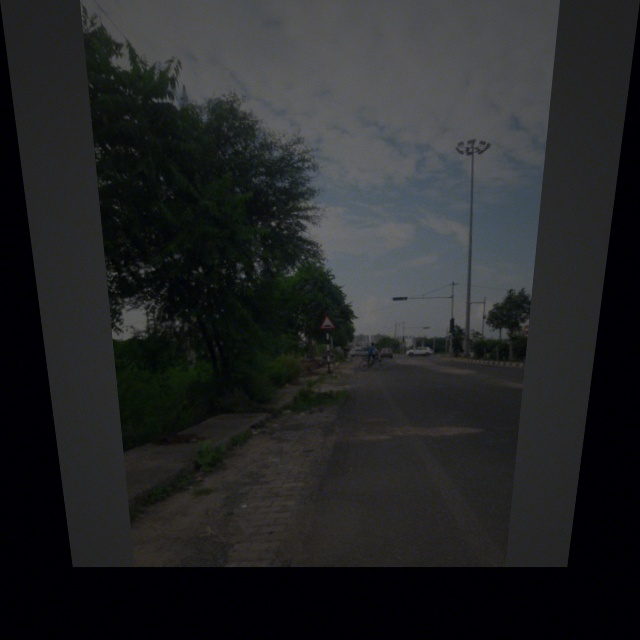Hump_or_Rough_Road: (318, 314, 335, 331)
